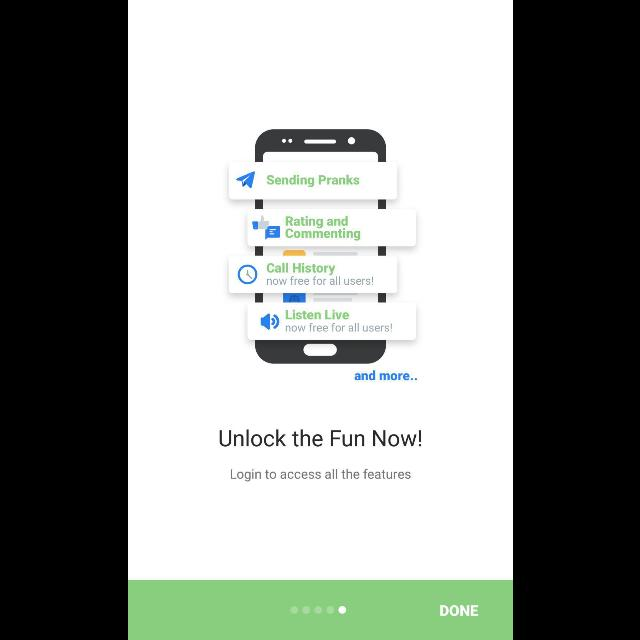image: (228, 128, 418, 384)
pageindicator: (290, 606, 346, 614)
text: (218, 428, 422, 448), (230, 468, 410, 482), (439, 605, 477, 617)
